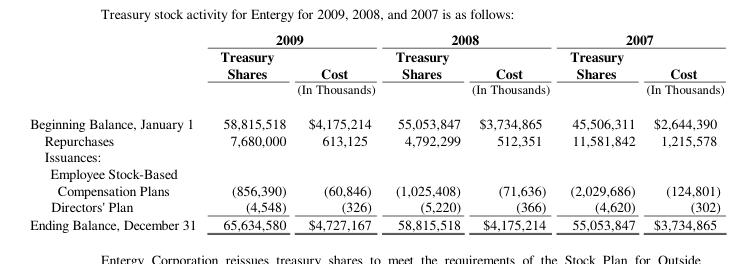table: (29, 29, 723, 232)
table column: (29, 29, 207, 232), (465, 29, 559, 232), (291, 29, 384, 232), (207, 29, 291, 232), (640, 29, 723, 232), (384, 29, 465, 232), (559, 29, 640, 232)
table column header: (29, 29, 723, 105)
table projected row header: (29, 147, 723, 164)
table row: (29, 47, 723, 105), (29, 164, 723, 197), (29, 105, 723, 130), (29, 29, 723, 47), (29, 214, 723, 232), (29, 130, 723, 147), (29, 147, 723, 164), (29, 197, 723, 214)
table spanning cell: (207, 29, 384, 47), (384, 29, 559, 47), (559, 29, 723, 47)
